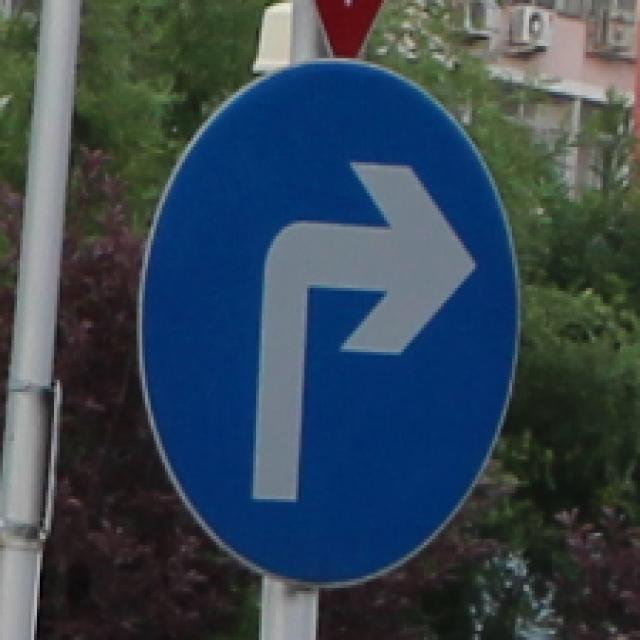Right: (137, 57, 521, 594)
